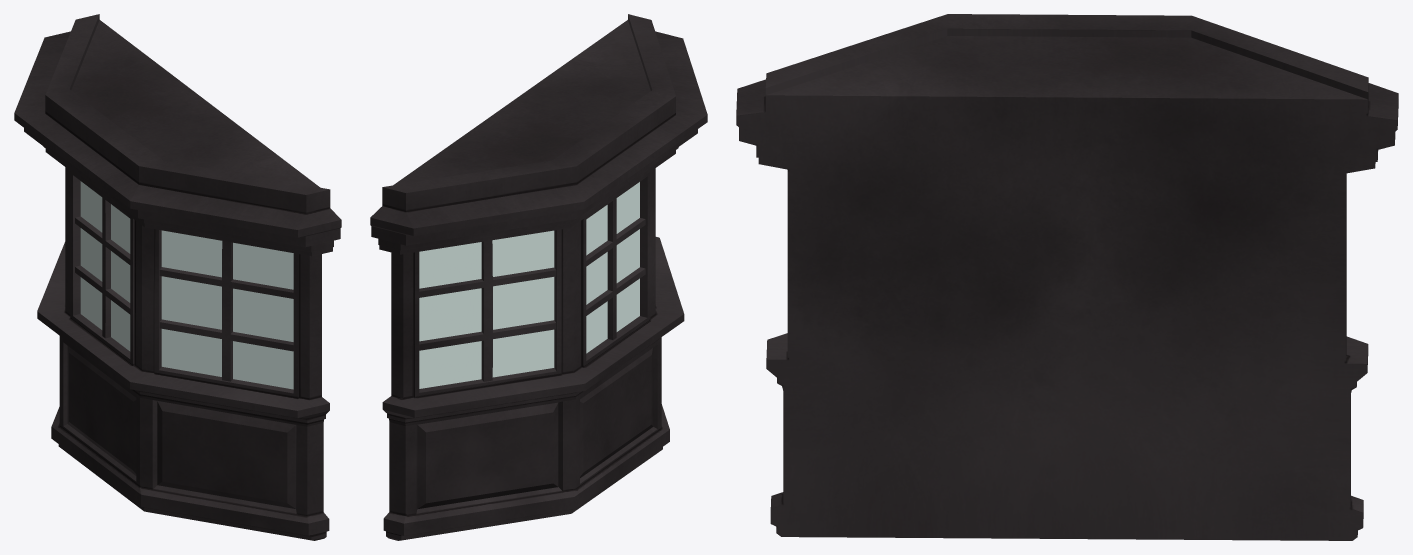
Rendered from SeitlichesFenster.fbx.
3 renders of one model, left to right at view 1: azimuth 30°, elevation 25°; view 2: azimuth 150°, elevation 25°; view 3: azimuth 270°, elevation 25°, orthographic. The views are drawn at different scales.
Visible parts, largest first — view 1: Alle_Fenster; view 2: Alle_Fenster; view 3: Alle_Fenster.
Part boxes in pixels (left/top/right/bottom): Alle_Fenster: left=14, top=14, right=341, bottom=540; Alle_Fenster: left=370, top=14, right=707, bottom=540; Alle_Fenster: left=736, top=14, right=1398, bottom=540.
Bounding box in the file's own units: 1601 × 1197 × 521.
